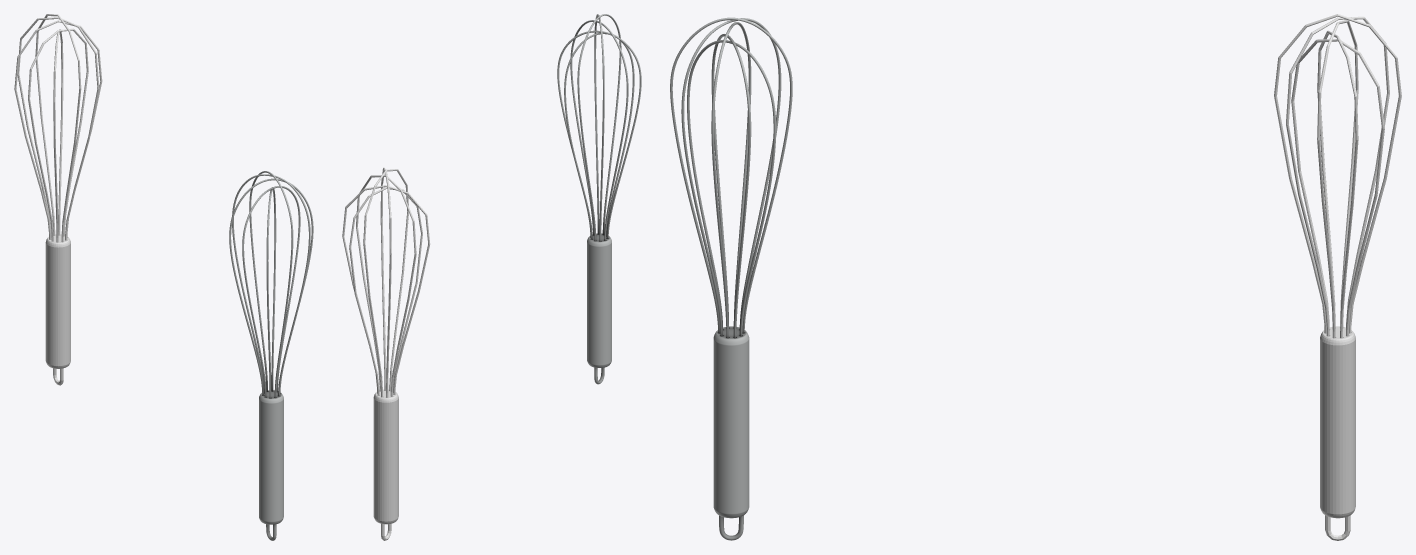
File: Wisk.fbx
3 renders of one model, left to right at view 1: azimuth 30°, elevation 25°; view 2: azimuth 150°, elevation 25°; view 3: azimuth 270°, elevation 25°, orthographic. The views are drawn at different scales.
Parts seen in each view (by area): view 1: Circle.002, Circle.004; view 2: Circle.002, Circle.004; view 3: Circle.002, Circle.004.
Part boxes in pixels (x1,y1,x2,y2): Circle.002: (14,14,102,385); Circle.004: (229,171,313,540); Circle.002: (342,167,430,540); Circle.004: (557,14,641,384); Circle.002: (1274,14,1401,540); Circle.004: (670,17,792,540).
Size of the model in its own units: 100 by 479 by 603.
